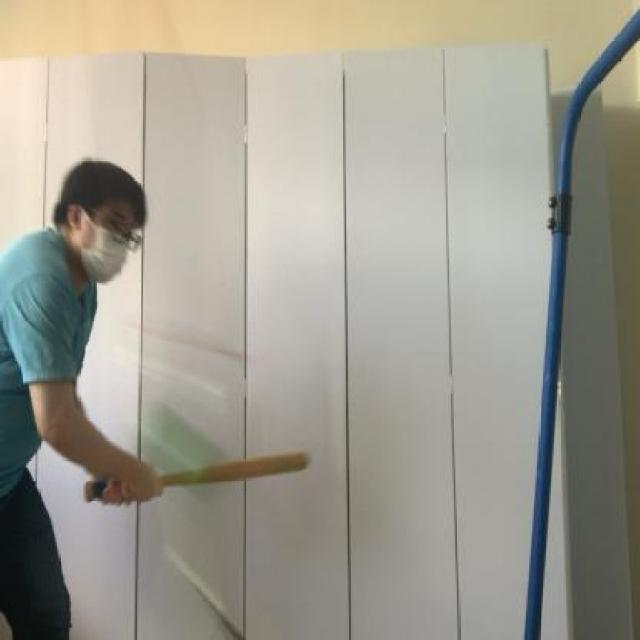baseball: (140, 389, 228, 500)
